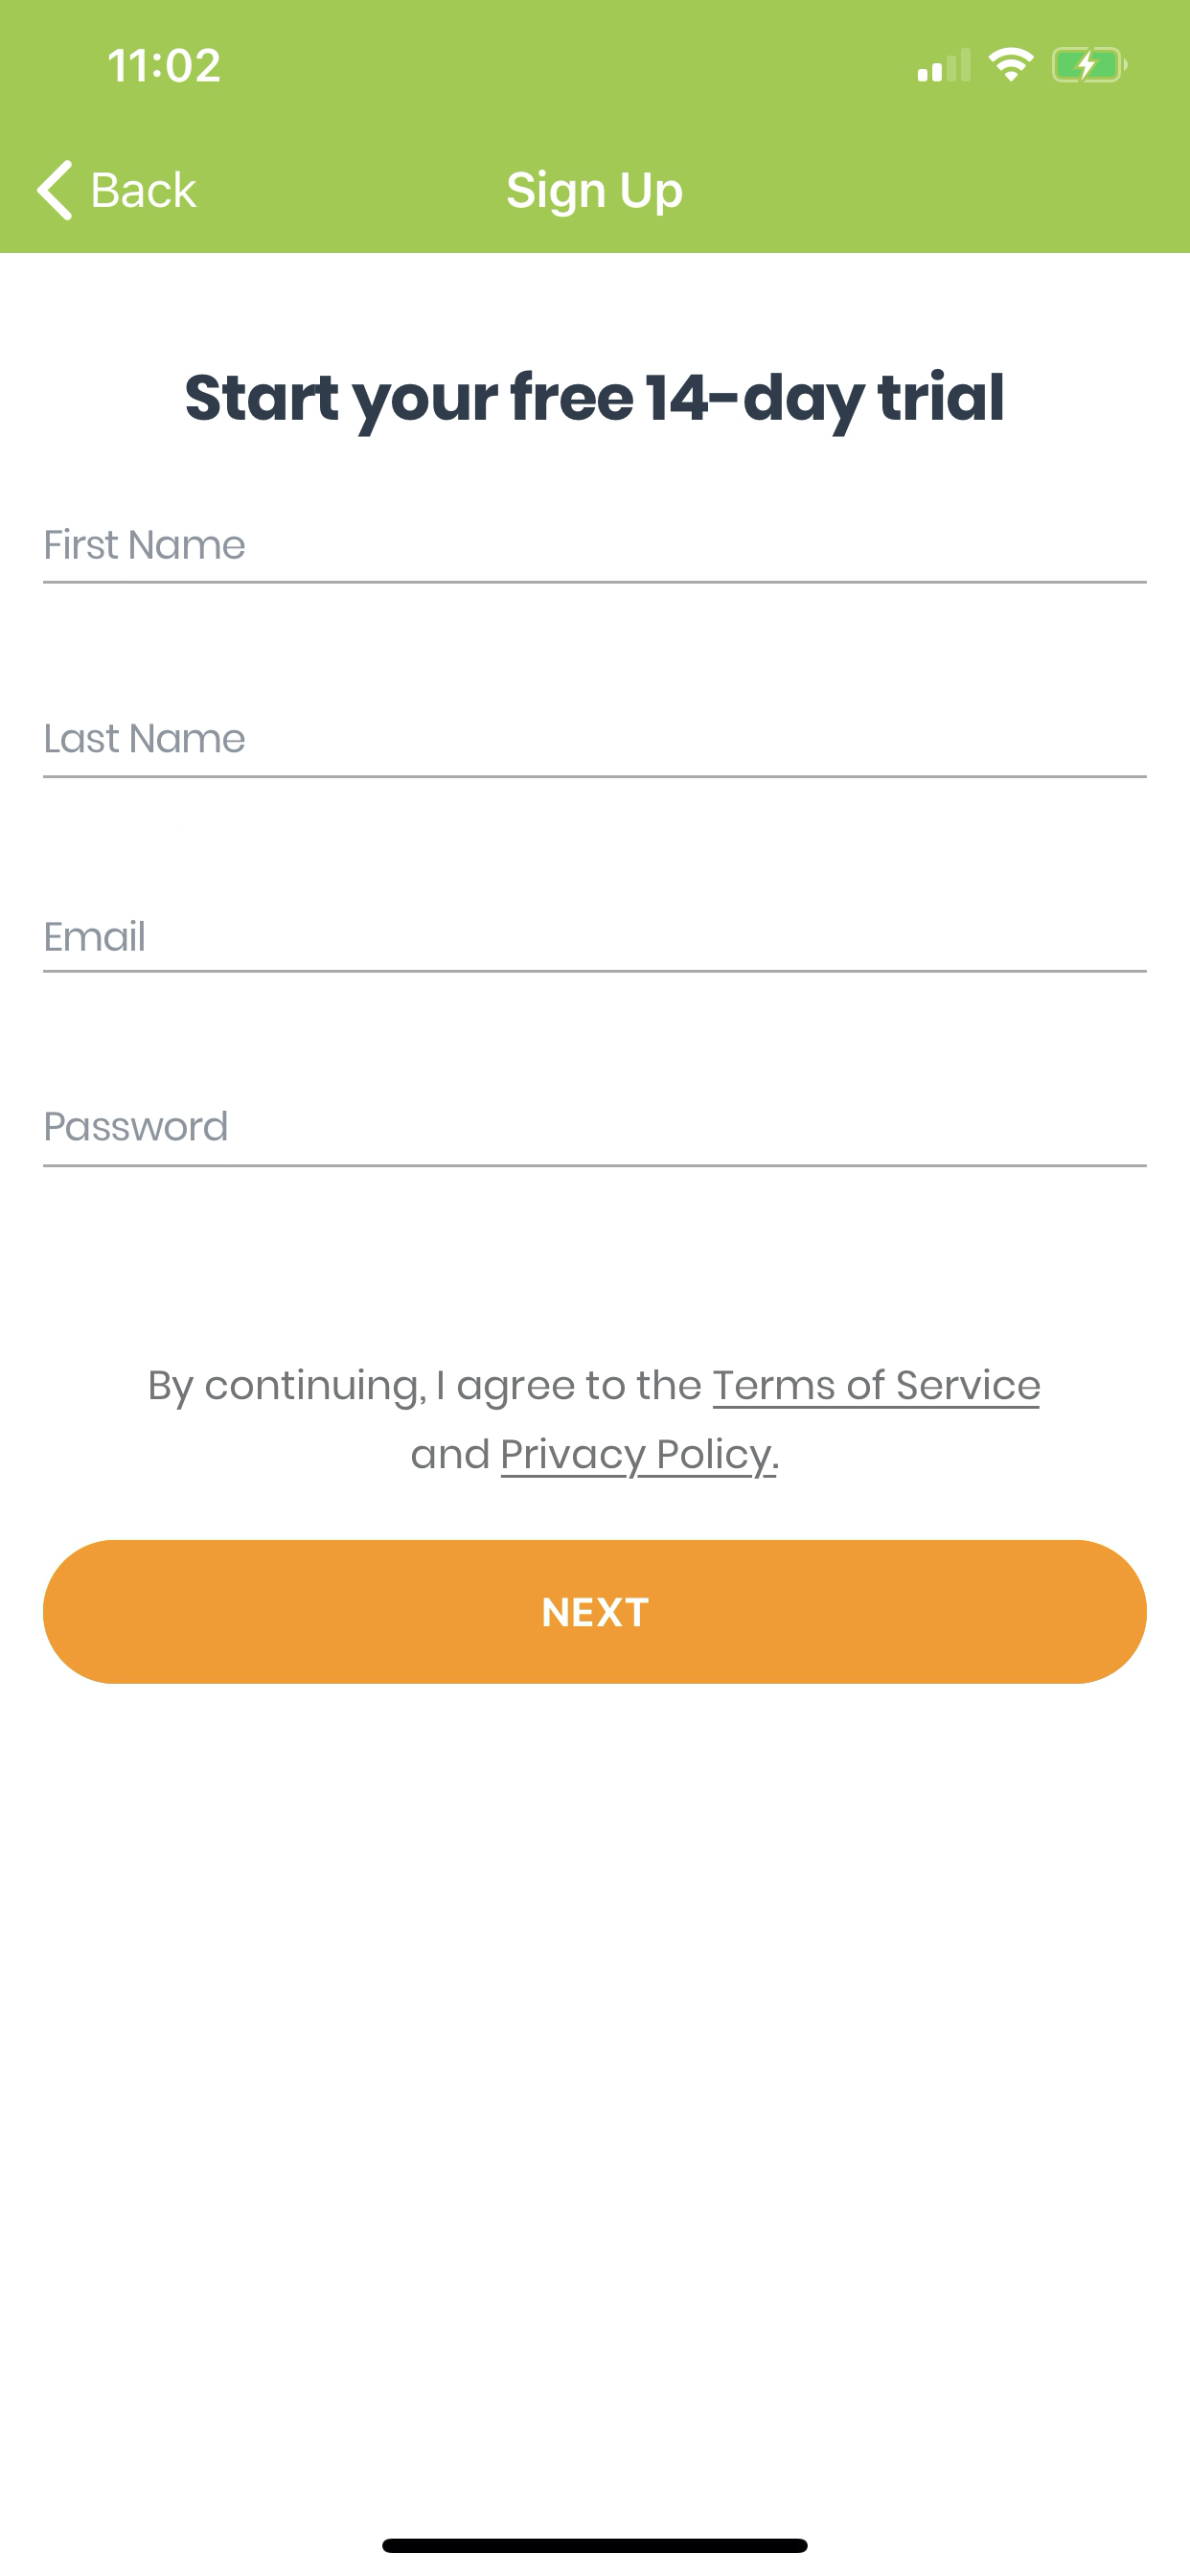EditText: (43, 527, 1147, 583), (43, 723, 1147, 779), (43, 1111, 1147, 1166), (43, 920, 1147, 973)
Icon: (38, 159, 72, 222)
Text: (151, 1368, 1040, 1479), (187, 370, 1003, 439), (506, 169, 684, 218), (46, 527, 245, 560), (46, 723, 245, 754), (46, 1111, 227, 1142), (94, 171, 197, 209), (46, 920, 145, 951)
TextButton: (43, 1539, 1147, 1684)
UpperTaskBar: (108, 48, 1128, 84)
